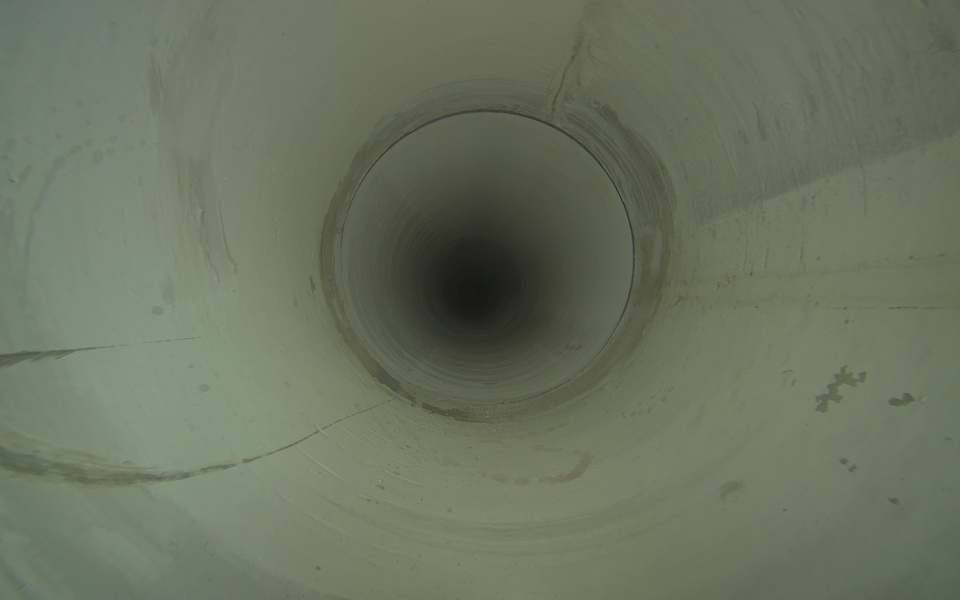circle1: (331, 106, 641, 410)
circle2: (454, 276, 493, 314)
